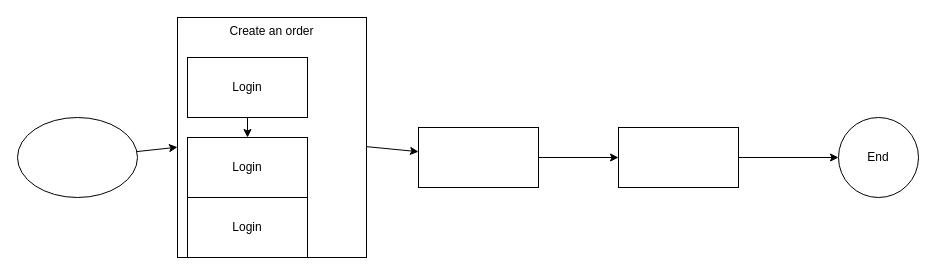
Some shapes in this 936 by 275 pixel diagram are drawn without their labels. Here are the shapes that lost their labels. From the top down, the box of each, then its label:
(16, 116, 138, 198): Start
(418, 126, 538, 188): Verify the order
(618, 126, 738, 188): Print the order
